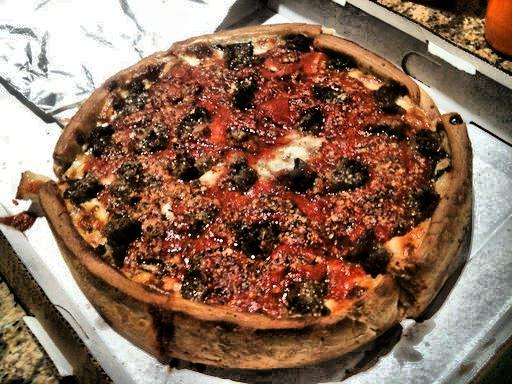pizza: (43, 29, 463, 354)
